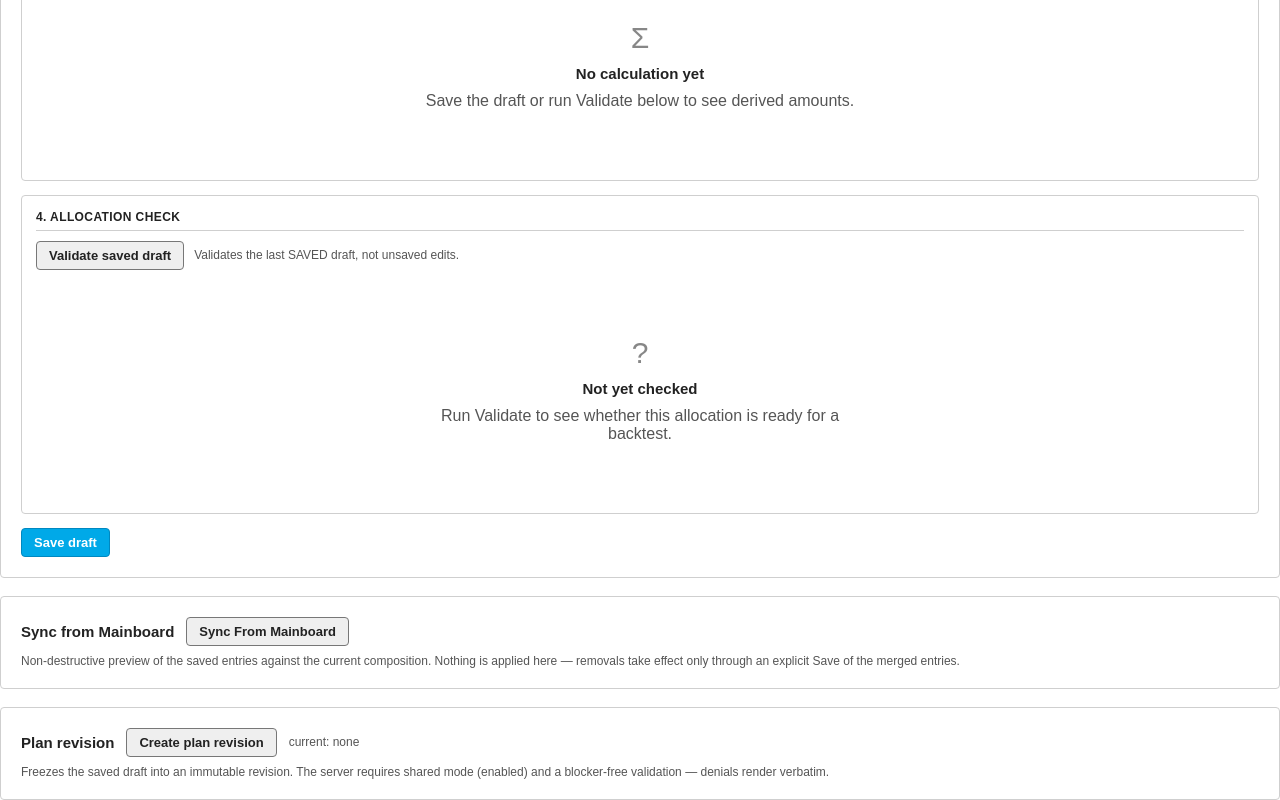
Test case: Portfolio / Equity Allocation page › surfaces a stale-draft conflict verbatim
This screenshot has width=1280, height=800.
(page scrolled)
Click the button "Save draft" at (65, 542), box [21,528,110,557]
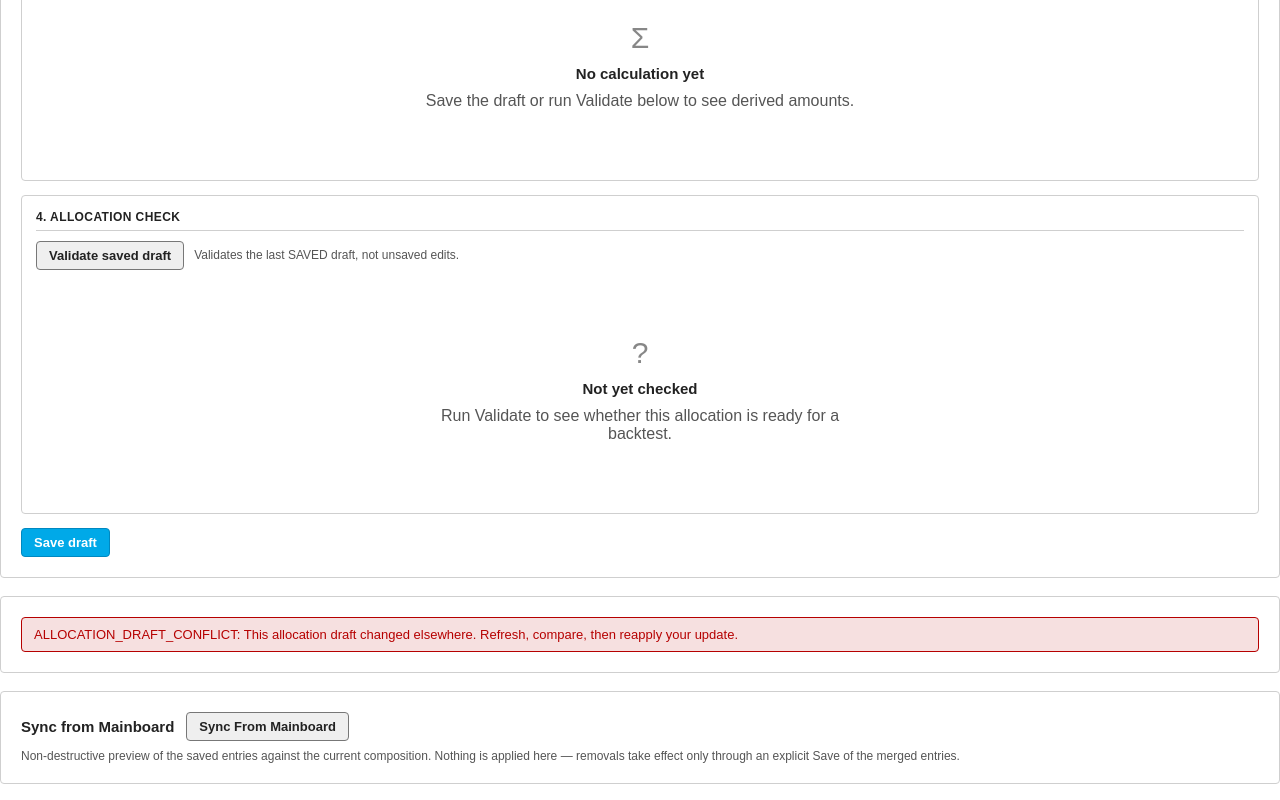
Now the text "ALLOCATION_DRAFT_CONFLICT: This allocation draft changed elsewhere. Refresh, compare, then reapply your update." is shown, box [34,627,738,642]
